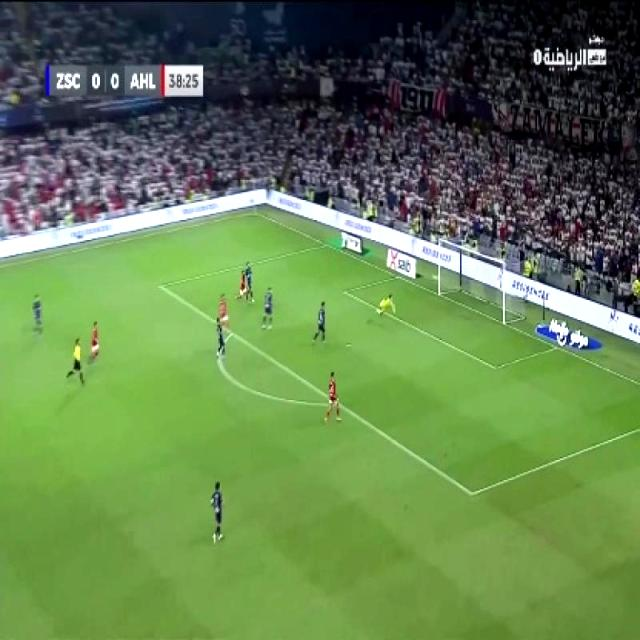bigarea_bottom_inner: (463, 482, 480, 503)
bigarea_top_inner: (150, 275, 168, 295)
bigarea_top_outter: (320, 237, 332, 251)
bottom_arc_area_intersection: (332, 398, 344, 412)
corner: (248, 206, 262, 219)
smallarea_bottom_inner: (486, 355, 504, 377)
smallarea_bottom_outter: (549, 338, 563, 354)
smallarea_top_inner: (339, 284, 351, 298)
smallarea_top_outter: (391, 268, 403, 282)
top_arc_area_intersection: (224, 324, 239, 342)
